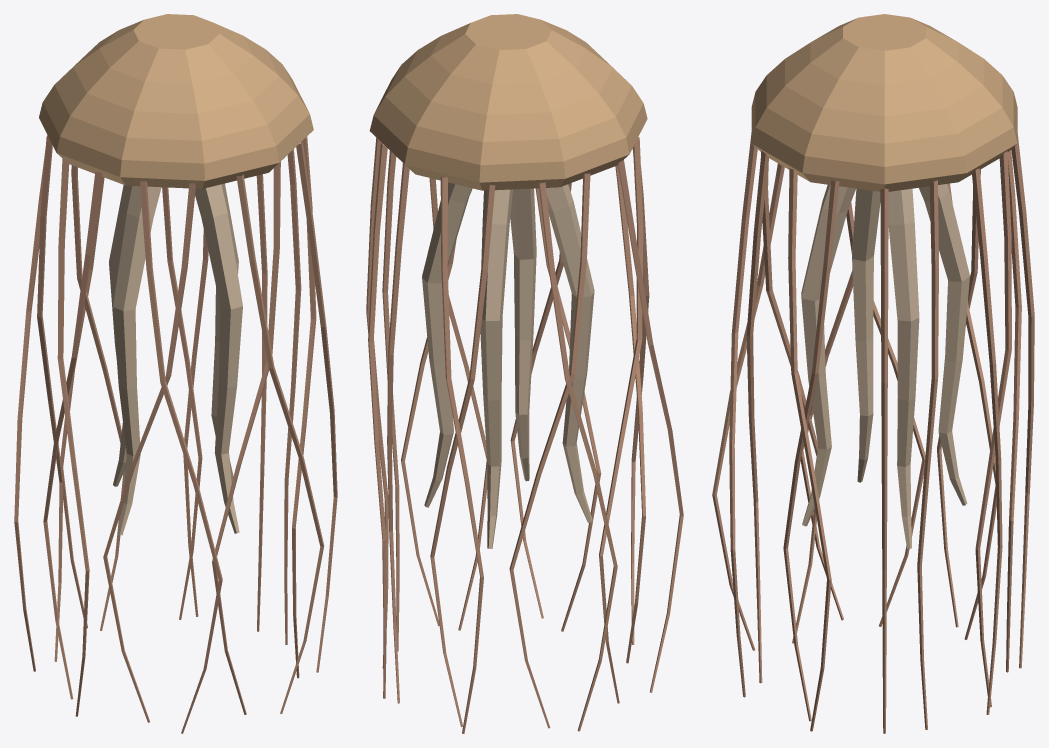
File: sea_nettle.glb
The picture shows the model from 3 angles, left to right: view 1: azimuth 30°, elevation 25°; view 2: azimuth 150°, elevation 25°; view 3: azimuth 270°, elevation 25°; orthographic projection.
Visible parts, largest first — view 1: sea_nettle; view 2: sea_nettle; view 3: sea_nettle.
Part boxes in pixels (left/top/right/bottom): sea_nettle: left=14, top=14, right=337, bottom=733; sea_nettle: left=366, top=14, right=683, bottom=733; sea_nettle: left=712, top=14, right=1034, bottom=733.
Size of the model in its own units: 0.6739 by 1.53 by 0.6922.
